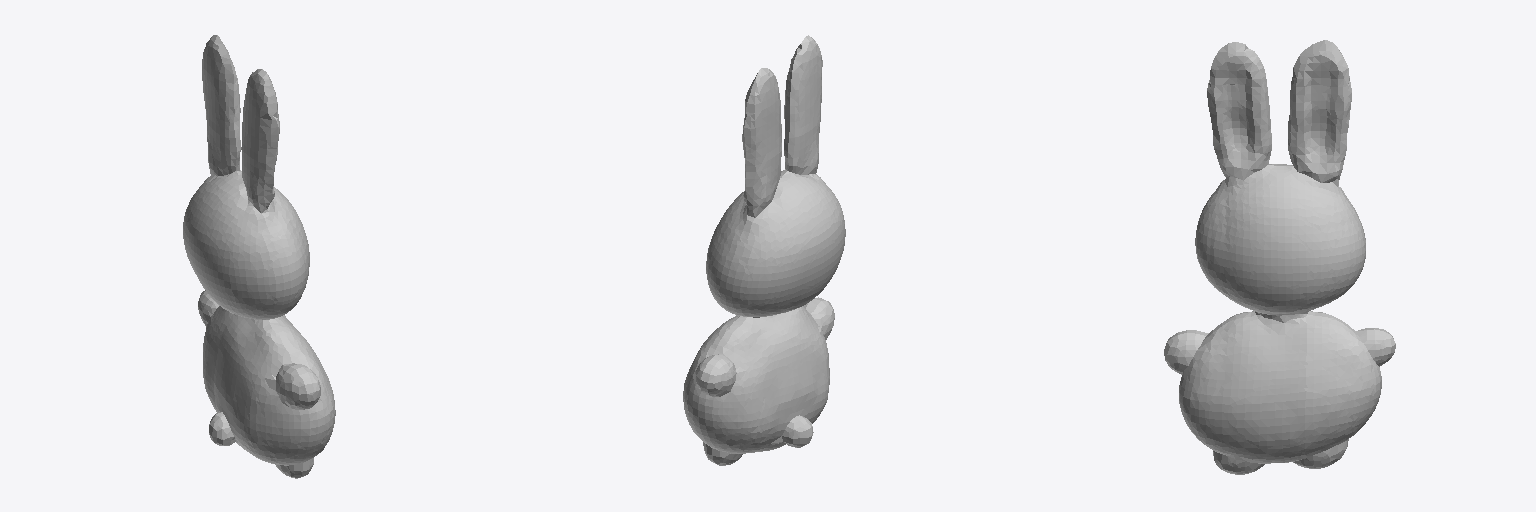
The model's file is rabbit_aug_0.obj.
3 renders of one model, left to right at view 1: azimuth 30°, elevation 25°; view 2: azimuth 150°, elevation 25°; view 3: azimuth 270°, elevation 25°, orthographic.
Bounding box in the file's own units: 29.52 × 98.09 × 49.45.